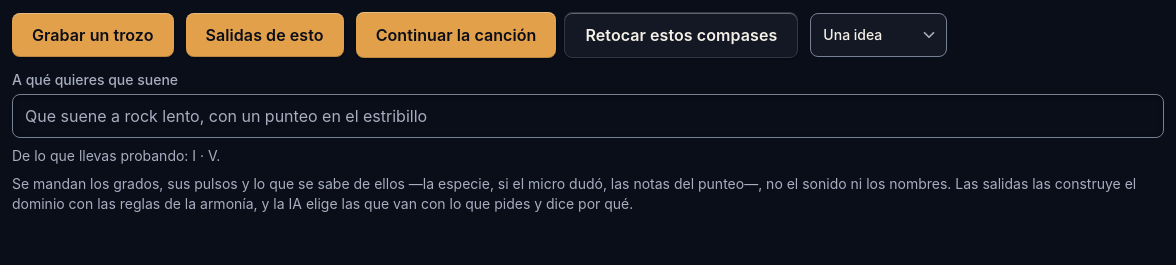
cuándo se puede pedir › si no hay ninguna salida, enseña el porqué del servidor
Click the button "Salidas de esto" at {"x": 265, "y": 35}, box 186,13 -> 344,57
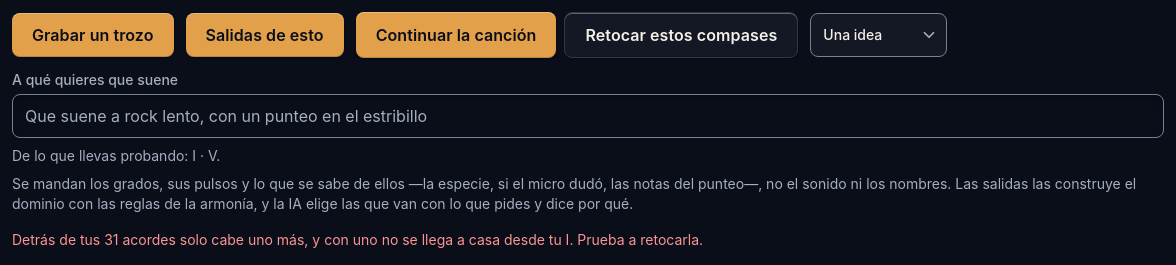
Expected: the 2nd message shows "Detrás de tus 31 acordes solo cabe uno más, y con uno no se llega a casa desde tu I. Prueba a retocarla.", 12,231 -> 703,248
